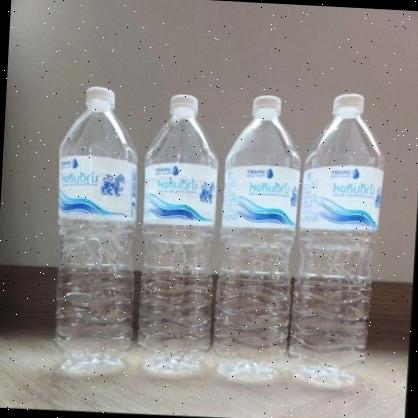bottle: (288, 92, 390, 394), (45, 83, 148, 376), (209, 93, 306, 385), (134, 89, 225, 380)
cap: (82, 86, 118, 110), (330, 94, 366, 117), (251, 95, 285, 118), (168, 94, 200, 118)
label: (300, 164, 384, 242), (56, 157, 138, 227), (221, 162, 297, 236), (144, 163, 218, 231)
